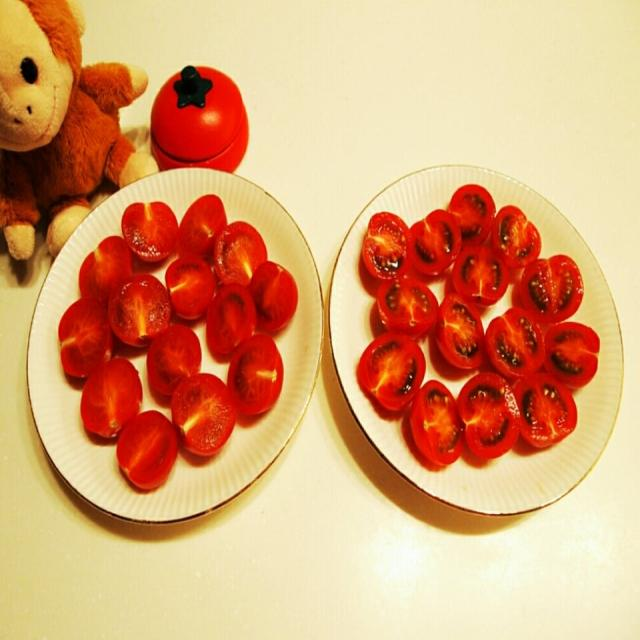Tomato: (356, 326, 431, 417), (168, 371, 240, 461), (453, 371, 522, 463), (114, 406, 180, 498), (225, 332, 288, 424), (512, 372, 580, 456), (55, 293, 116, 386), (80, 357, 144, 442), (484, 303, 549, 382), (108, 272, 170, 353), (408, 378, 462, 470), (518, 252, 586, 322), (146, 324, 204, 403), (202, 281, 258, 362), (432, 292, 486, 376), (375, 278, 442, 345), (212, 220, 270, 294), (448, 239, 510, 305), (360, 209, 413, 286), (177, 194, 233, 266), (78, 234, 134, 306), (120, 200, 180, 266), (543, 322, 602, 389), (163, 251, 217, 324), (410, 205, 462, 278), (490, 203, 545, 272), (248, 259, 299, 333), (445, 178, 498, 248)
